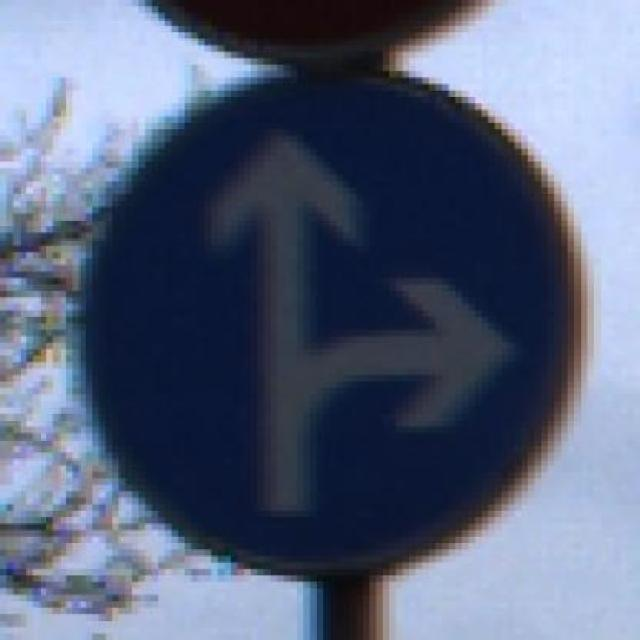Go Straight or Turn Right: (26, 57, 620, 588)
